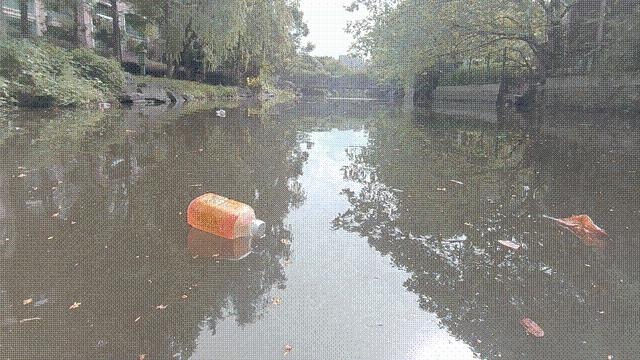Plastic: (185, 185, 277, 243), (97, 99, 114, 111), (215, 109, 227, 118)
